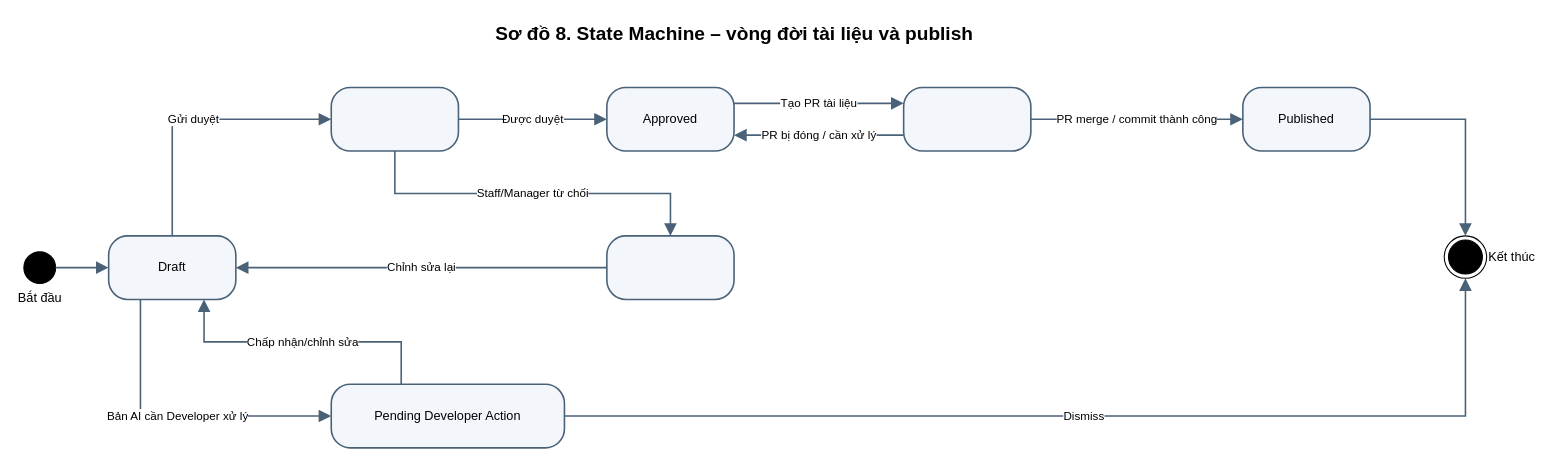
Image size: 1554x466. Some labels were removed from this diagram. Here are the shapes that lost their labels. From the top down, the centre of each, then its label:
the point at 394,118: In Review
the point at 966,118: Pending Merge
the point at 670,267: Rejected
